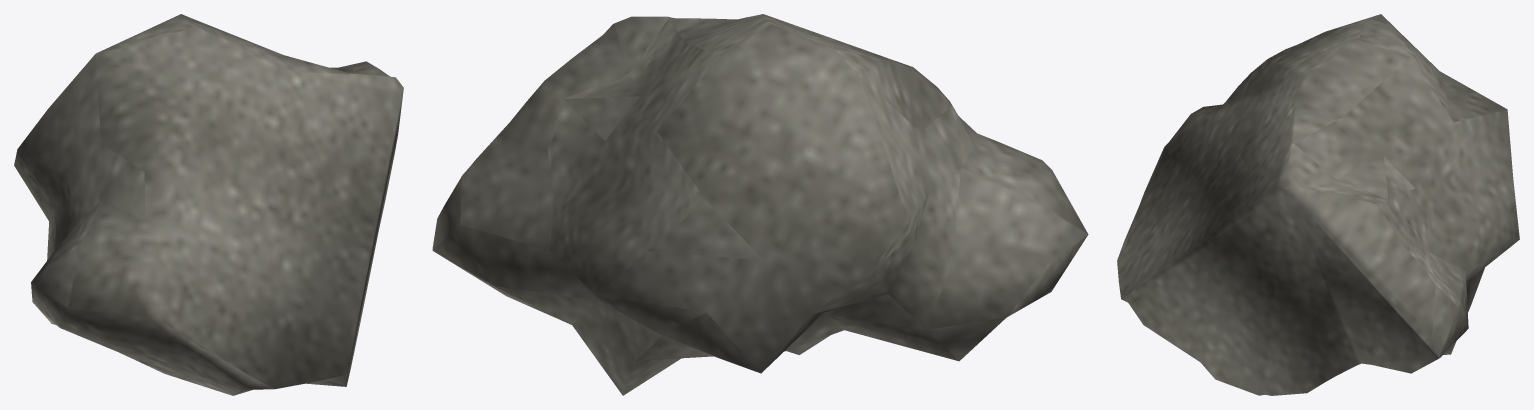
The model's file is boulder_2.glb.
3 views of the same model, side by side, from view 1: azimuth 30°, elevation 25°; view 2: azimuth 150°, elevation 25°; view 3: azimuth 270°, elevation 25° (orthographic). The views are drawn at different scales.
Visible parts, largest first — view 1: boulder_2; view 2: boulder_2; view 3: boulder_2.
Boxes of the visible parts, box(x1,y1,x2,y2) form: boulder_2: box(14, 14, 403, 395); boulder_2: box(432, 14, 1088, 395); boulder_2: box(1117, 14, 1519, 395).
Size of the model in its own units: 3.78 by 2.67 by 3.17.
1 material, 1 textured.
